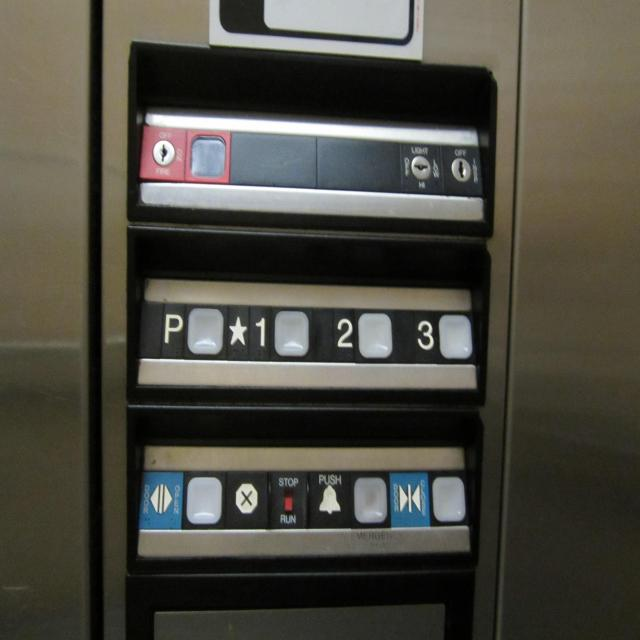2: (313, 306, 392, 366)
3: (394, 307, 476, 366)
P: (142, 299, 225, 363)
alarm: (309, 466, 391, 532)
close: (388, 467, 468, 530)
keyhole: (138, 124, 234, 184), (399, 141, 443, 196), (439, 143, 483, 198)
open: (137, 466, 225, 530)
s1: (226, 300, 312, 362)
stop: (225, 465, 309, 530)
